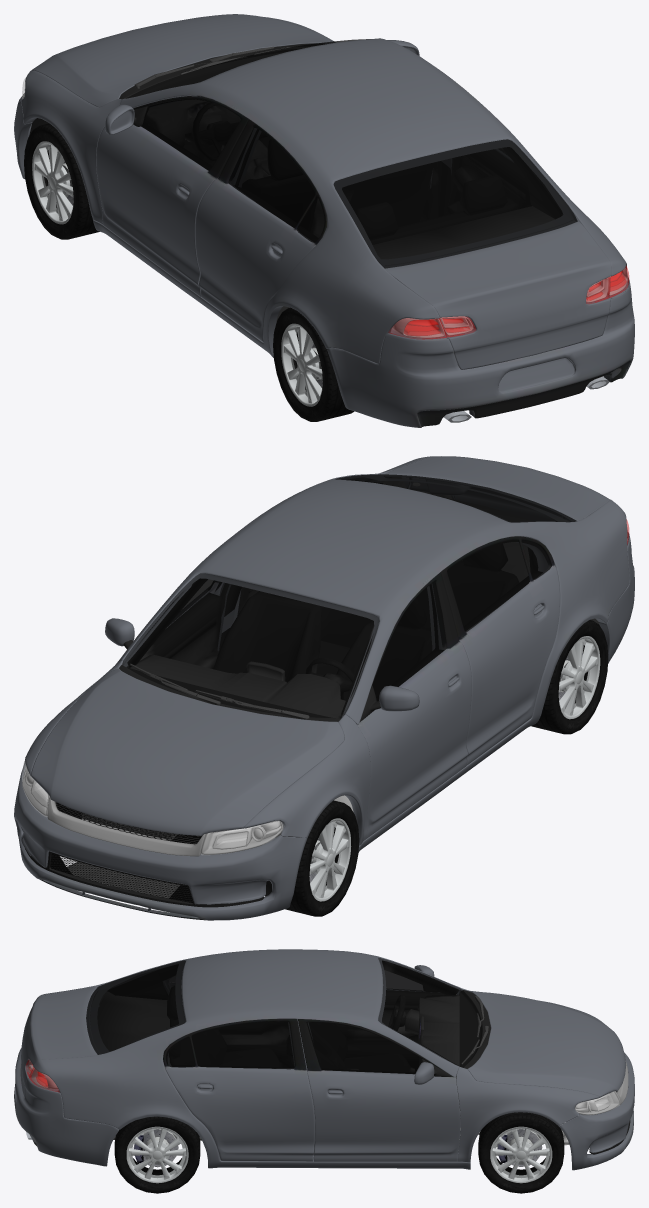
Rendered from car.glb.
3 renders of one model, top to bottom at view 1: azimuth 30°, elevation 25°; view 2: azimuth 150°, elevation 25°; view 3: azimuth 270°, elevation 25°, orthographic. The views are drawn at different scales.
Parts seen in each view (by area): view 1: body, hood, seats, wheel_fl, wheel_rl, steering; view 2: body, hood, seats, wheel_fl, wheel_rl, headlight, steering; view 3: body, hood, wheel_fr, seats, wheel_rr, headlight, steering, brake_disc, taillight.
Part boxes in pixels (left/top/right/bottom): body: left=14, top=17, right=634, bottom=427; hood: left=31, top=14, right=335, bottom=107; seats: left=242, top=139, right=517, bottom=244; wheel_fl: left=24, top=123, right=99, bottom=239; wheel_rl: left=273, top=307, right=354, bottom=421; steering: left=193, top=103, right=238, bottom=160; body: left=14, top=456, right=634, bottom=920; hood: left=31, top=668, right=344, bottom=835; seats: left=213, top=544, right=518, bottom=700; wheel_fl: left=285, top=800, right=359, bottom=916; wheel_rl: left=531, top=620, right=608, bottom=734; headlight: left=22, top=761, right=48, bottom=816; steering: left=305, top=658, right=354, bottom=699; body: left=14, top=949, right=634, bottom=1170; hood: left=468, top=990, right=626, bottom=1097; wheel_fr: left=478, top=1112, right=564, bottom=1193; seats: left=167, top=987, right=411, bottom=1071; wheel_rr: left=114, top=1116, right=200, bottom=1193; headlight: left=575, top=1091, right=619, bottom=1114; steering: left=388, top=995, right=406, bottom=1030; brake_disc: left=506, top=1129, right=542, bottom=1166; taillight: left=29, top=1067, right=59, bottom=1092.
Size of the model in its own units: 2.1 by 1.5 by 4.98.
Materials: 23 (10 with a texture image).
